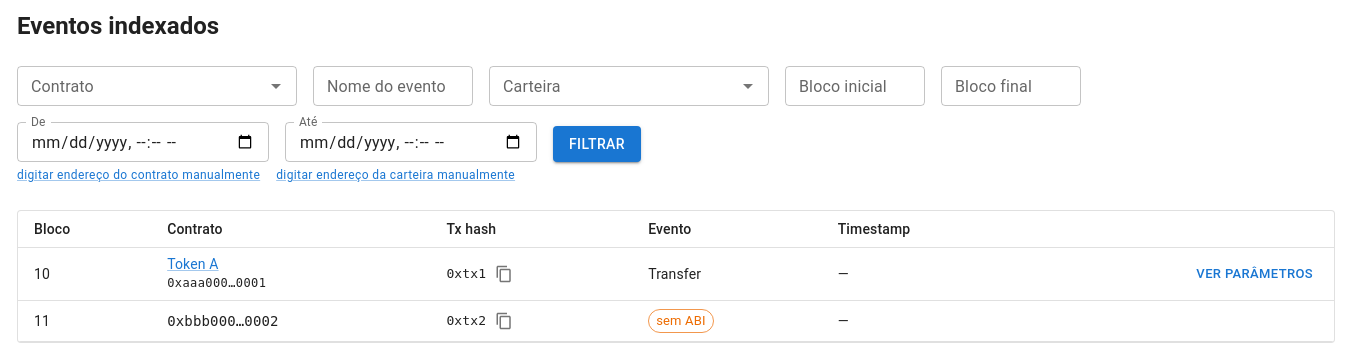
Test case: EventsPage › usa <EventPicker> quando há contrato selecionado no filtro
Expected: the field labelled "Nome do evento" is shown, [313,66,473,106]
Click the dropdown labelled "Contrato".
click(140, 86)  # box [23,72,258,100]
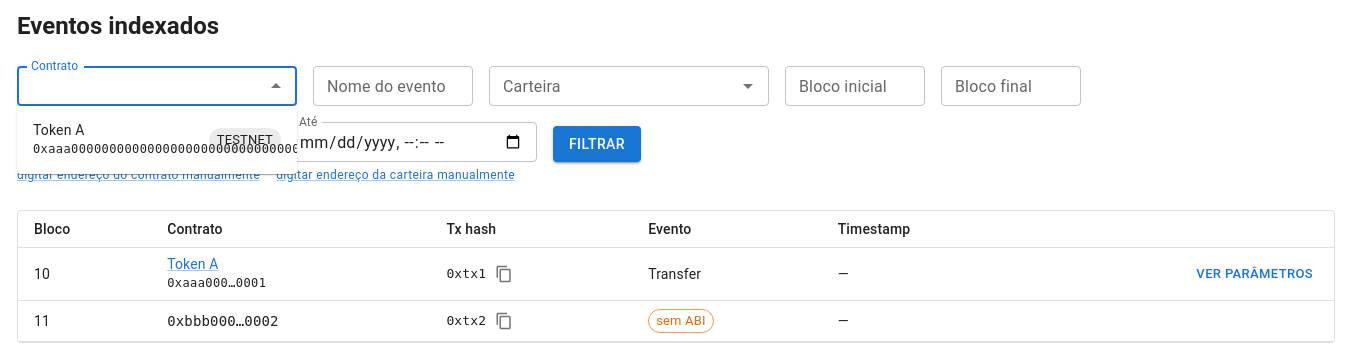
Click the option "Token A 0xaaa0000000000000000000000000000000000001 TESTNET".
click(157, 140)  # box [17,114,297,166]
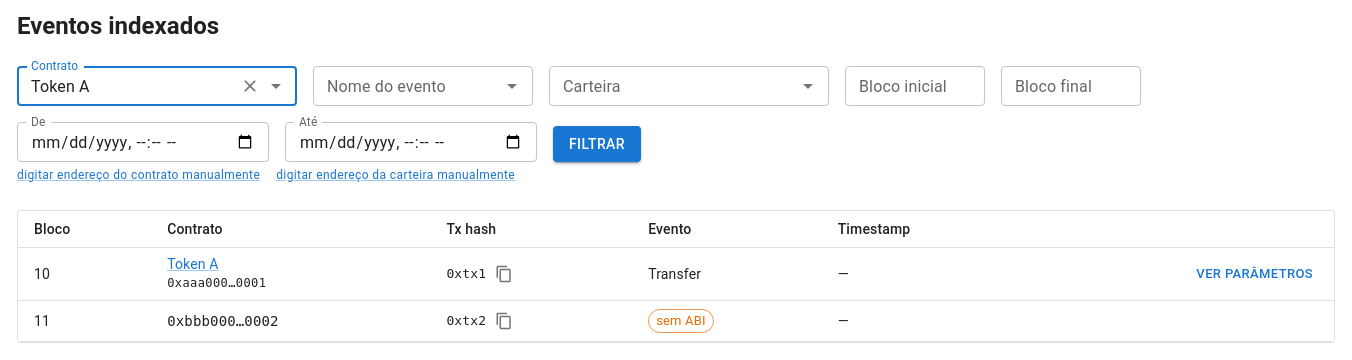
Expected: the dropdown labelled "Nome do evento" is shown, [319,72,494,100]
